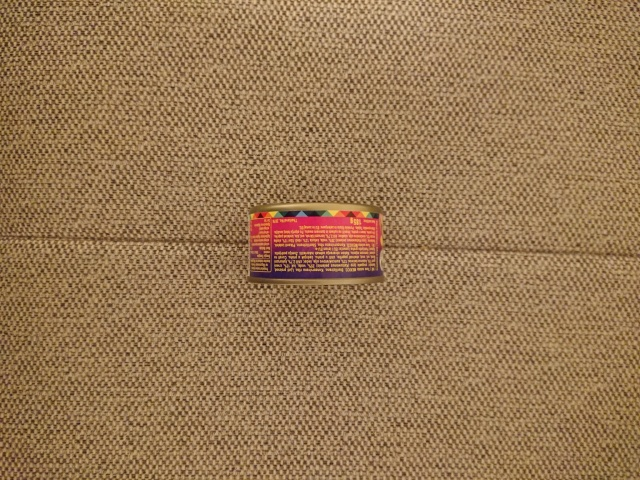Giana Tuna Salad Mexico 185g: (244, 200, 390, 289)
